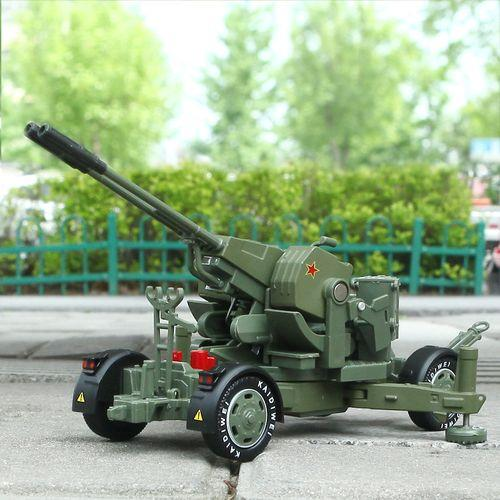MIL_SPG: (25, 123, 485, 461)
